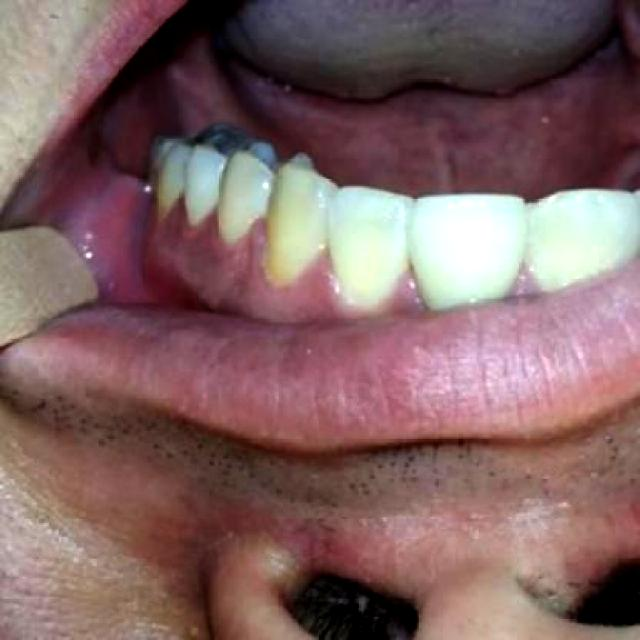Plaque: (213, 214, 258, 244), (181, 198, 210, 227)
